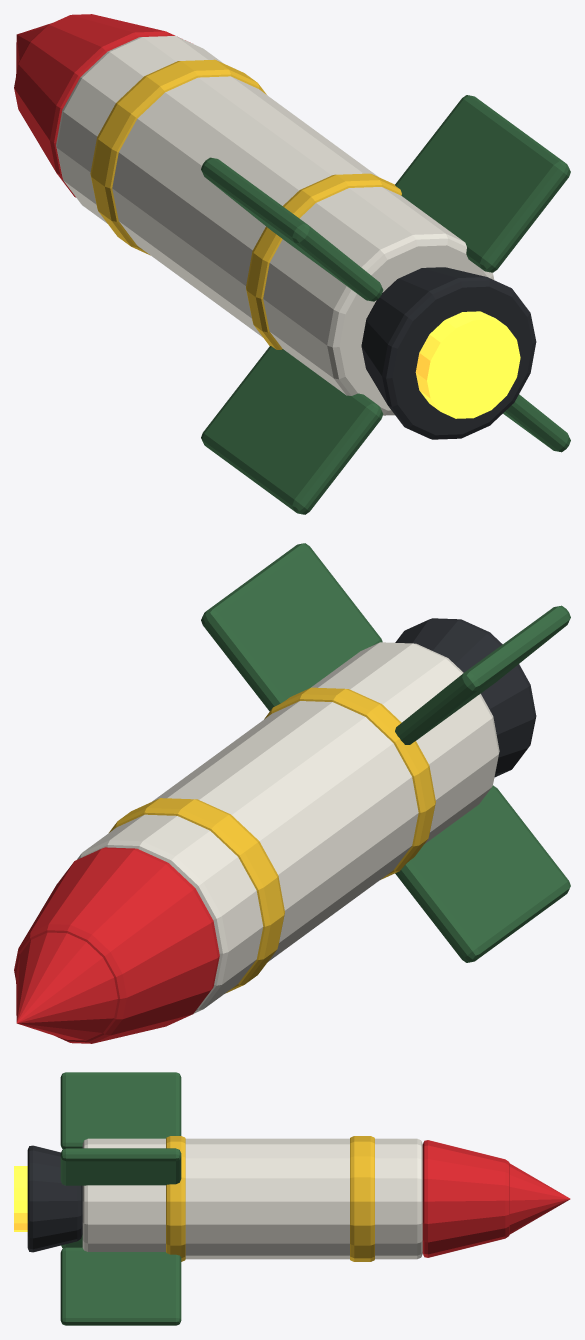
The model's file is rocket.glb.
3 renders of one model, top to bottom at view 1: azimuth 30°, elevation 25°; view 2: azimuth 150°, elevation 25°; view 3: azimuth 270°, elevation 25°, orthographic. The views are drawn at different scales.
Visible parts, largest first — view 1: Rocket; view 2: Rocket; view 3: Rocket.
Boxes of the visible parts, box(x1,y1,x2,y2) form: Rocket: box(14, 14, 570, 514); Rocket: box(14, 543, 570, 1043); Rocket: box(14, 1072, 570, 1325).
Size of the model in its own units: 0.3559 by 0.3559 by 1.01.
